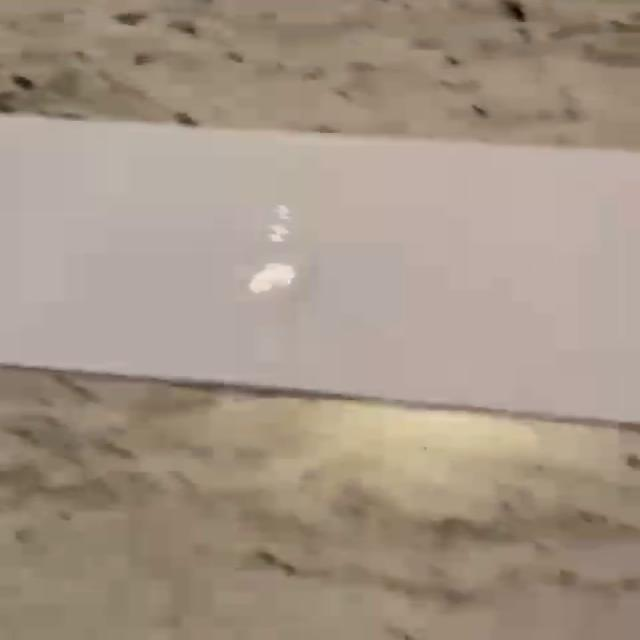road: (2, 116, 637, 421)
